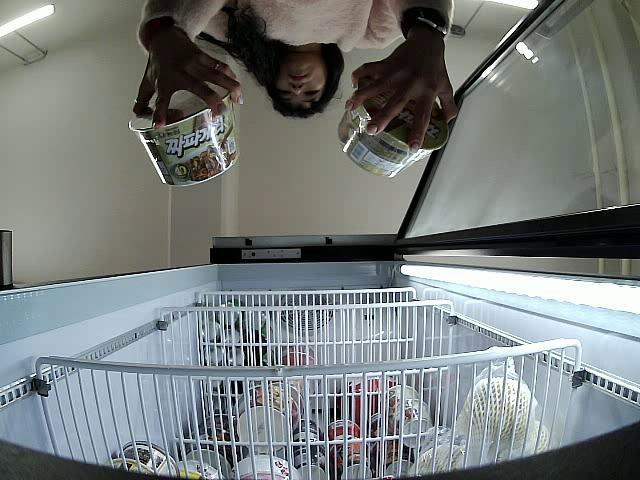03_chapagetti_L: (127, 92, 243, 185), (337, 84, 448, 181)
